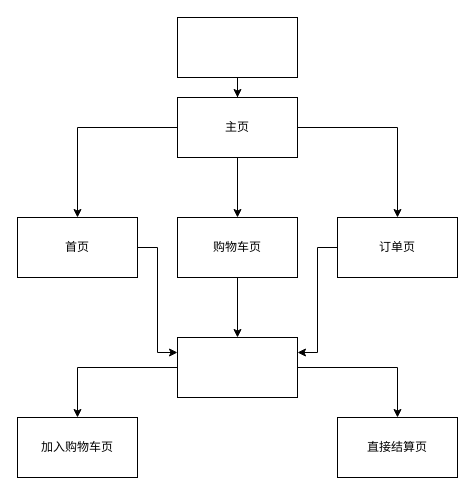
This 475x495 diagram has some shape labels left out. The shapes that lost their labels are listed below. From the top down, each one's centre as x and y in pixels, then its label:
(237,47): 登录/注册页
(237,367): 商品详情页
